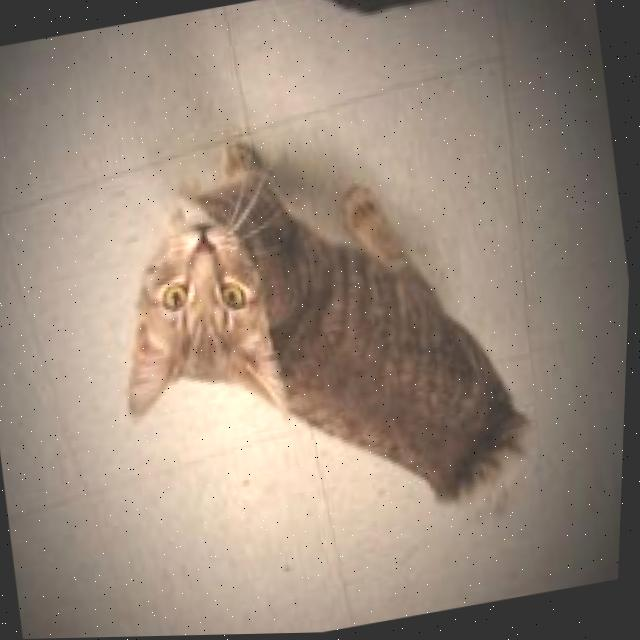American Bobtail: (80, 91, 568, 597)
